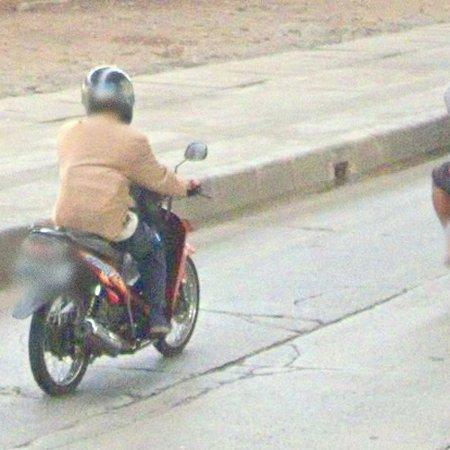motorcycles: (12, 187, 200, 396)
